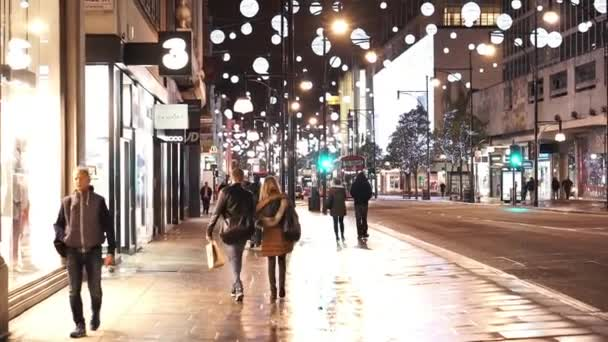person: (52, 166, 119, 339), (205, 165, 255, 302), (258, 176, 301, 303), (351, 171, 373, 240), (325, 177, 347, 243), (199, 181, 213, 216), (527, 175, 539, 204), (562, 175, 575, 200), (550, 176, 562, 201)
